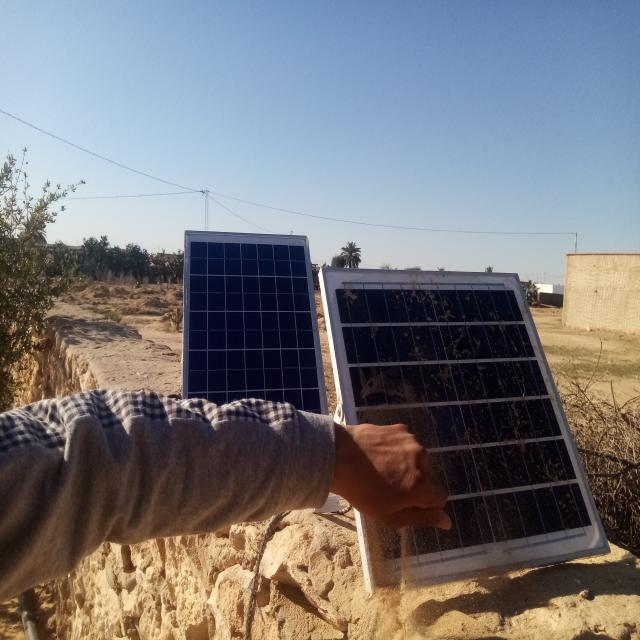Normal Solar Panel: (185, 235, 325, 403)
